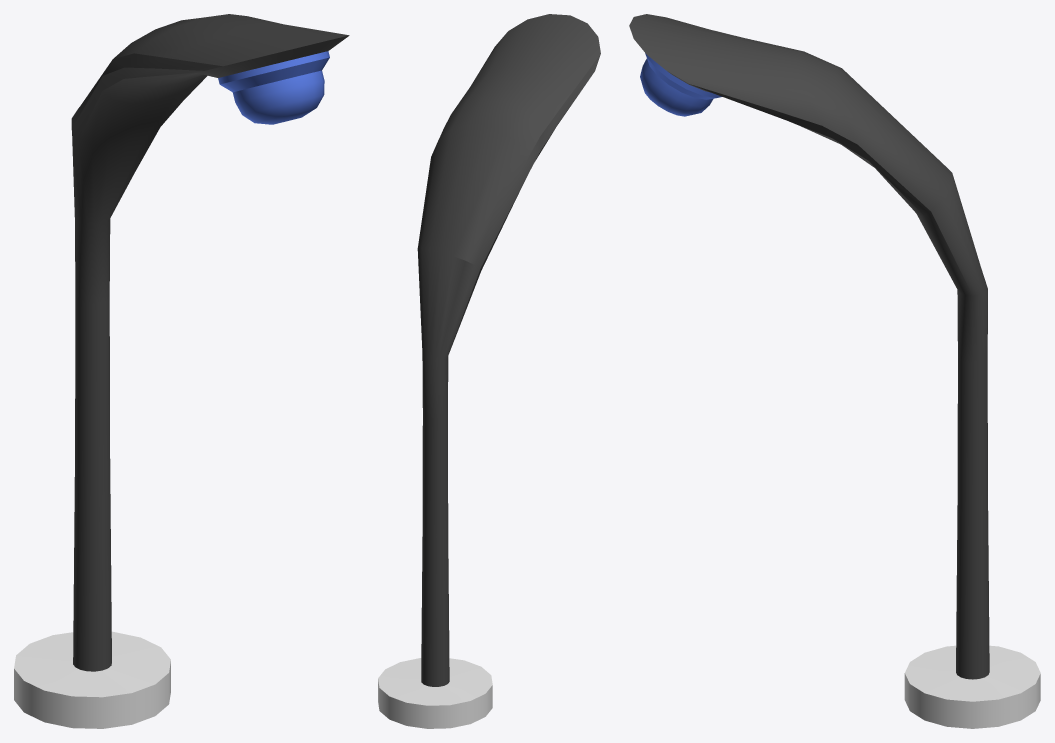
Rendered from post.glb.
The picture shows the model from 3 angles, left to right: view 1: azimuth 30°, elevation 25°; view 2: azimuth 150°, elevation 25°; view 3: azimuth 270°, elevation 25°; orthographic projection. The views are drawn at different scales.
Parts seen in each view (by area): view 1: Lightpost; view 2: Lightpost; view 3: Lightpost.
Part boxes in pixels (x1,y1,x2,y2): Lightpost: (14, 14, 349, 728); Lightpost: (378, 14, 600, 728); Lightpost: (629, 14, 1040, 728).
Size of the model in its own units: 0.7803 by 3.88 by 2.12.
